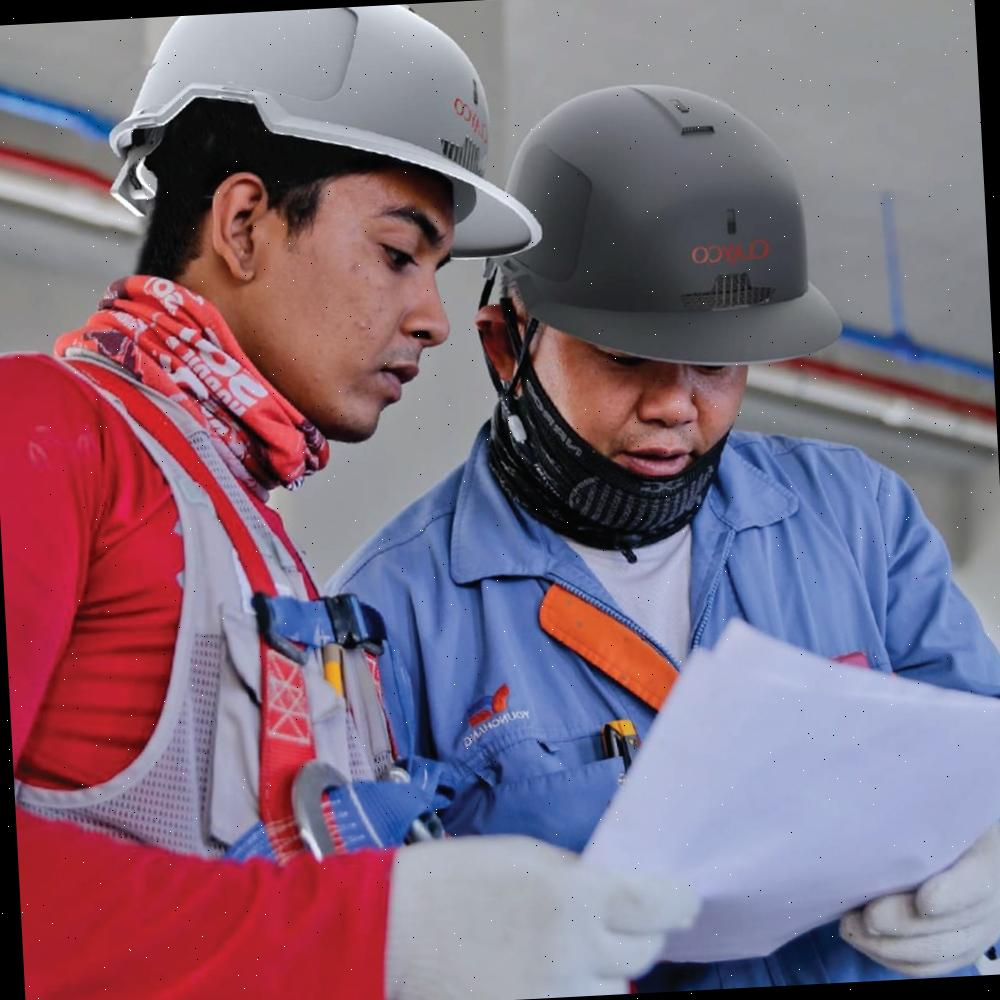helmet: (98, 1, 542, 290), (474, 70, 845, 388)
wear: (323, 453, 1000, 1000)
